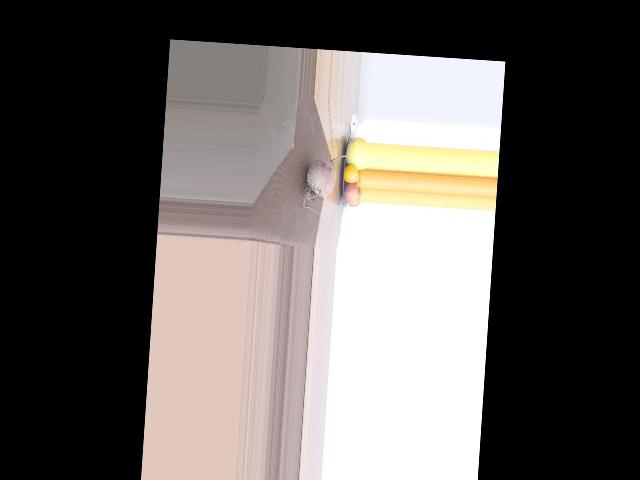beet: (302, 152, 350, 215)
